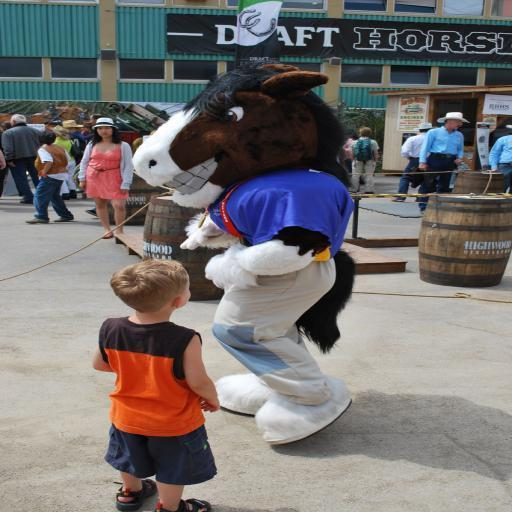horse: (129, 56, 358, 448)
